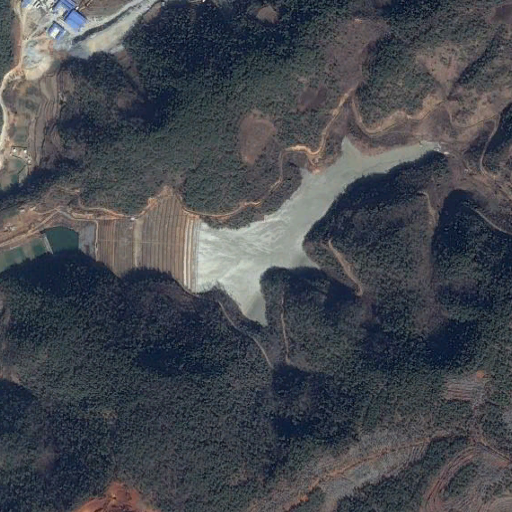tp: (77, 137, 439, 328)
